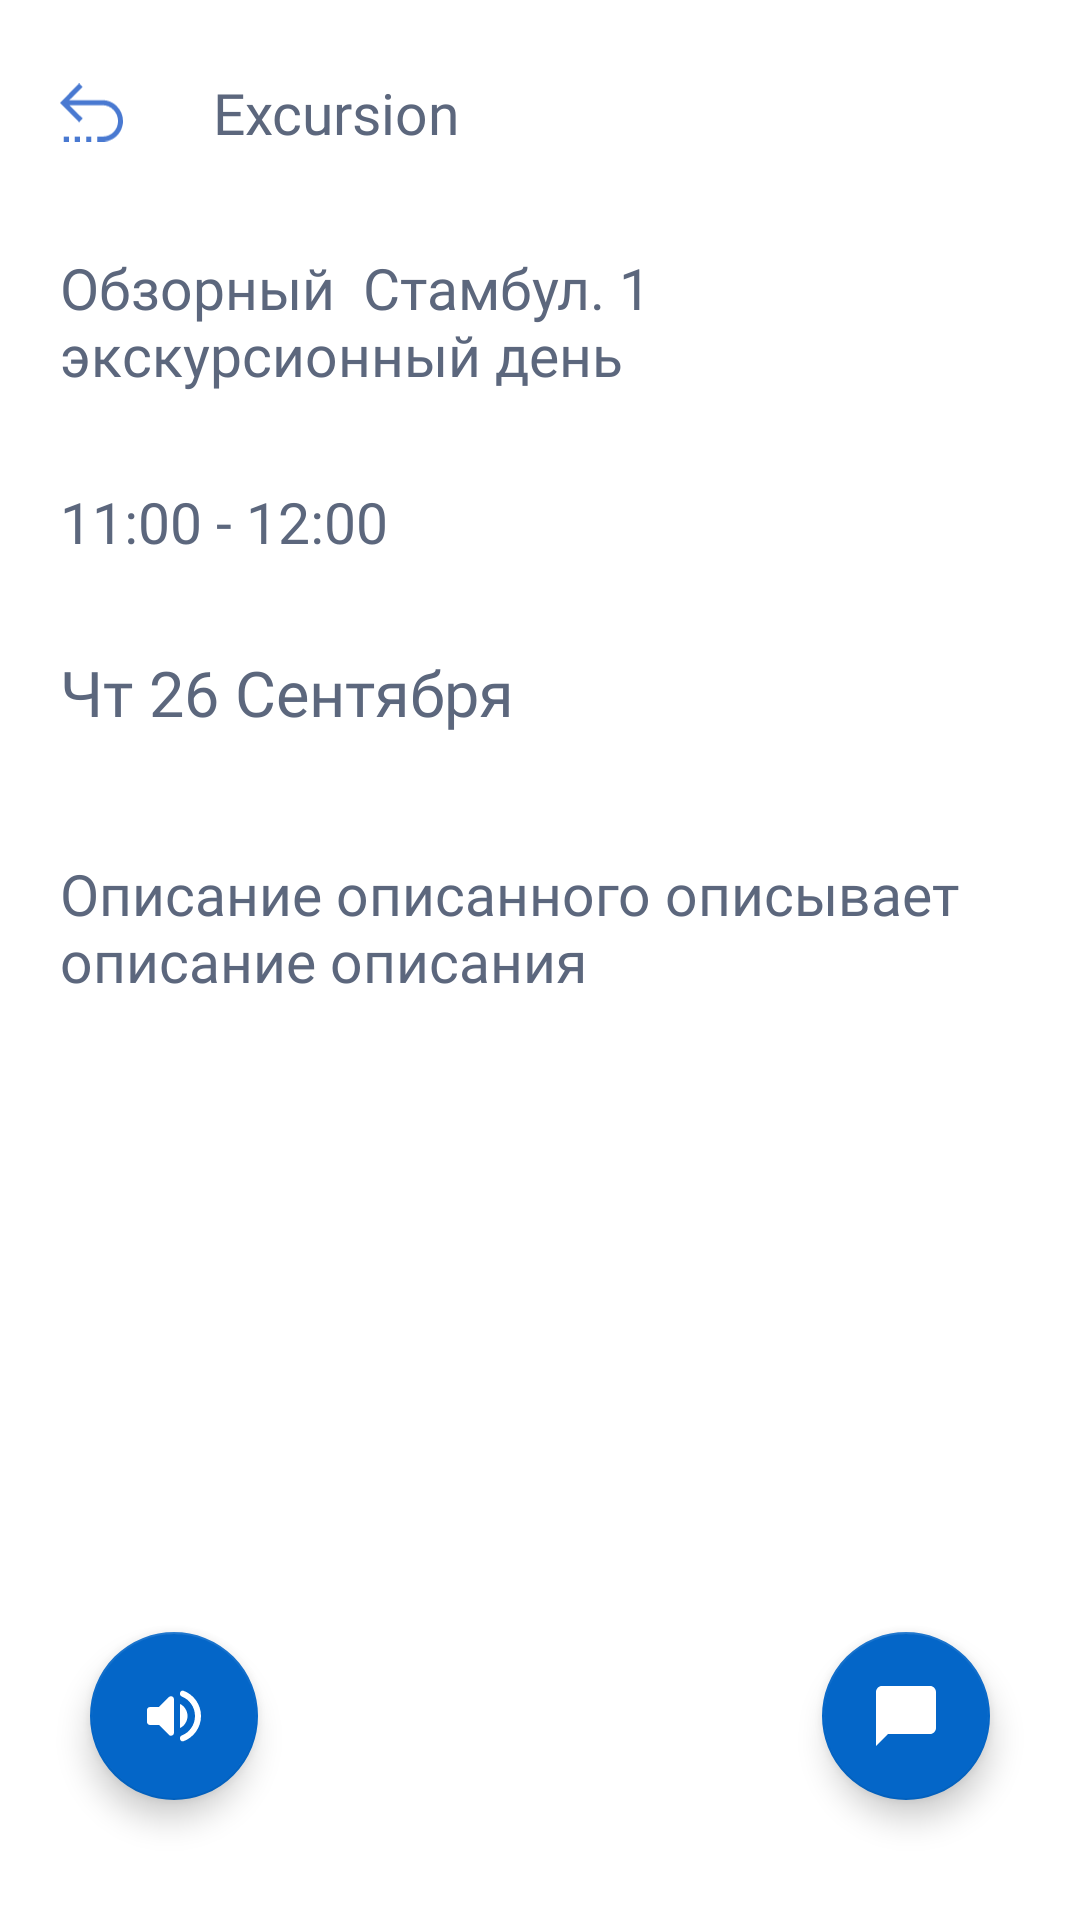

Where to tap for icons on this 1080x1920 app screen, as (x,y):
chat bubble: (906,1716)
return: (91,112)
